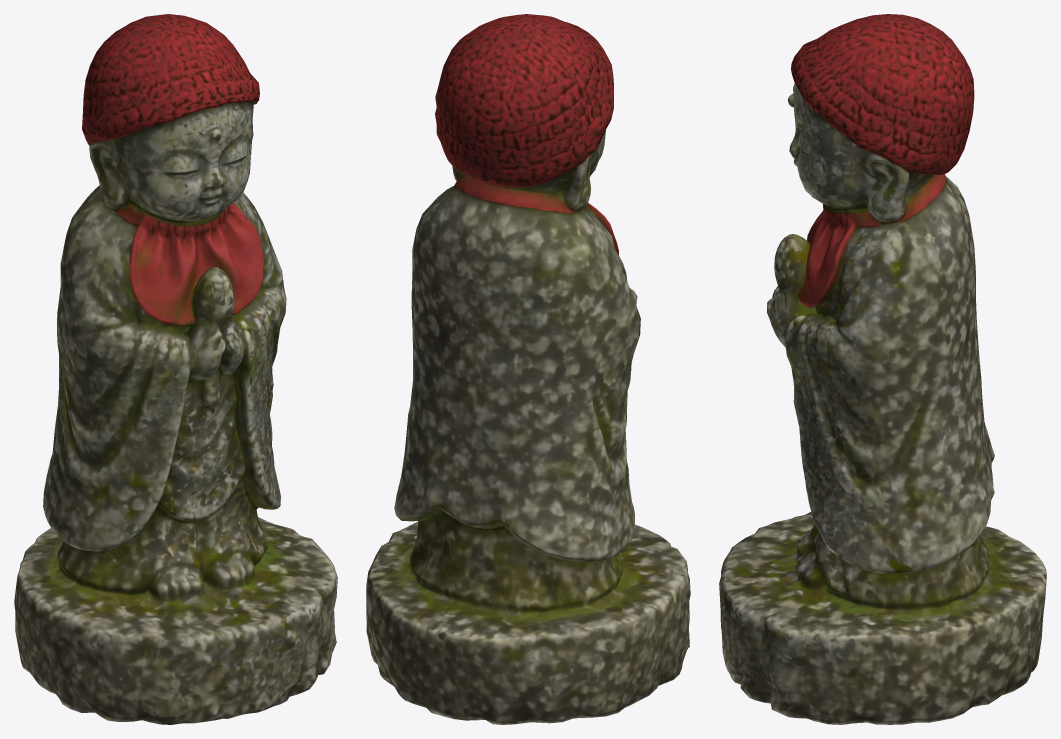
The model's file is jizo.glb.
3 renders of one model, left to right at view 1: azimuth 30°, elevation 25°; view 2: azimuth 150°, elevation 25°; view 3: azimuth 270°, elevation 25°, orthographic.
Parts seen in each view (by area): view 1: geometry_0; view 2: geometry_0; view 3: geometry_0.
Part boxes in pixels (<box>): geometry_0: <box>14,14,337,724</box>; geometry_0: <box>366,14,690,724</box>; geometry_0: <box>719,14,1046,724</box>.
Size of the model in its own units: 0.4287 by 0.9512 by 0.4395.
Materials: 1 (1 with a texture image).
